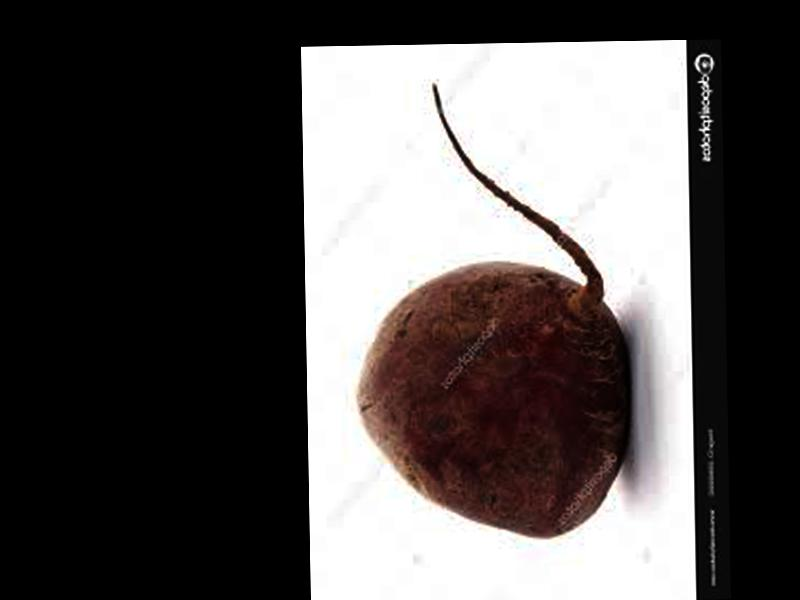Beet: (355, 82, 631, 540)
